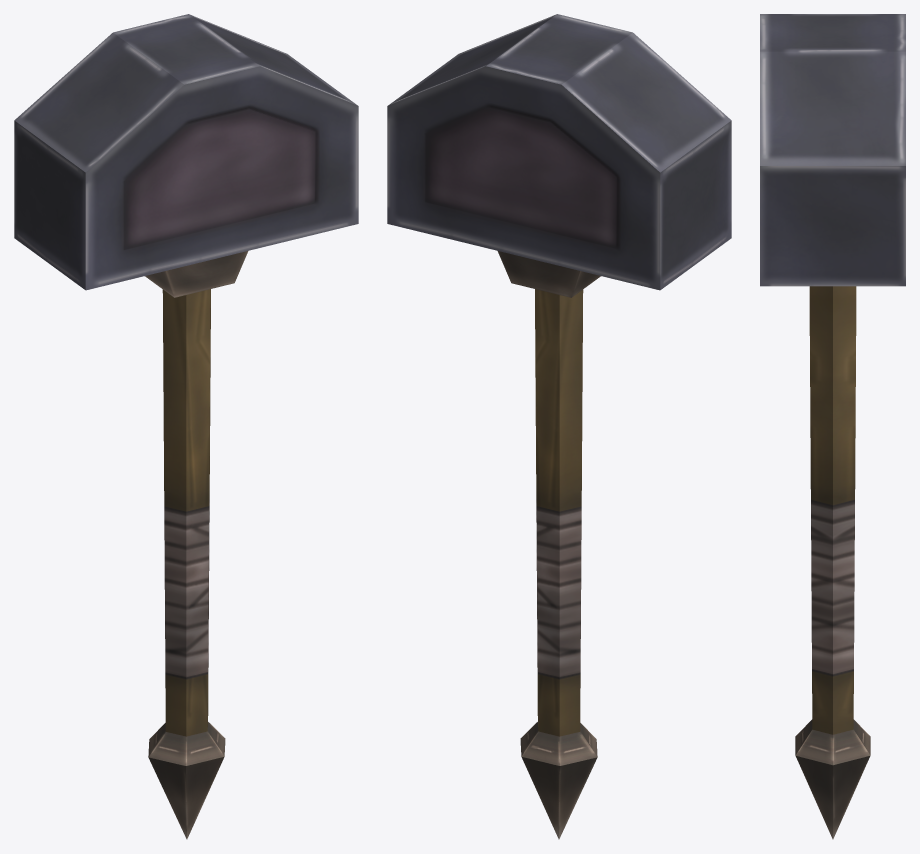
File: battle_hammer_lvl_01.fbx
3 renders of one model, left to right at view 1: azimuth 30°, elevation 25°; view 2: azimuth 150°, elevation 25°; view 3: azimuth 270°, elevation 25°, orthographic. The views are drawn at different scales.
Visible parts, largest first — view 1: battle_hammer_lvl_01; view 2: battle_hammer_lvl_01; view 3: battle_hammer_lvl_01.
Part boxes in pixels (left/top/right/bottom): battle_hammer_lvl_01: left=14, top=14, right=358, bottom=839; battle_hammer_lvl_01: left=387, top=14, right=731, bottom=839; battle_hammer_lvl_01: left=760, top=14, right=905, bottom=839.
Size of the model in its own units: 2.08 by 5.77 by 0.9442.
